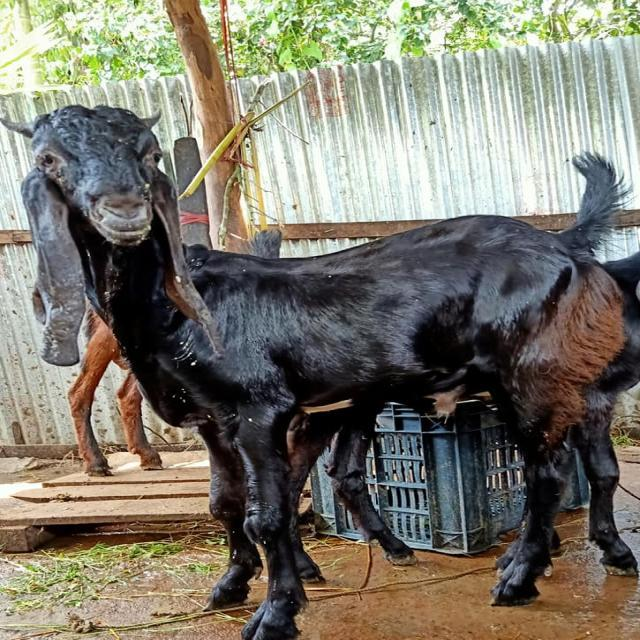Goat: (2, 104, 637, 638)
